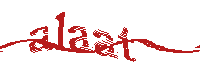a: (93, 27, 120, 58), (29, 25, 52, 53), (68, 24, 91, 52)
l: (55, 11, 67, 52)
t: (119, 27, 137, 65)
